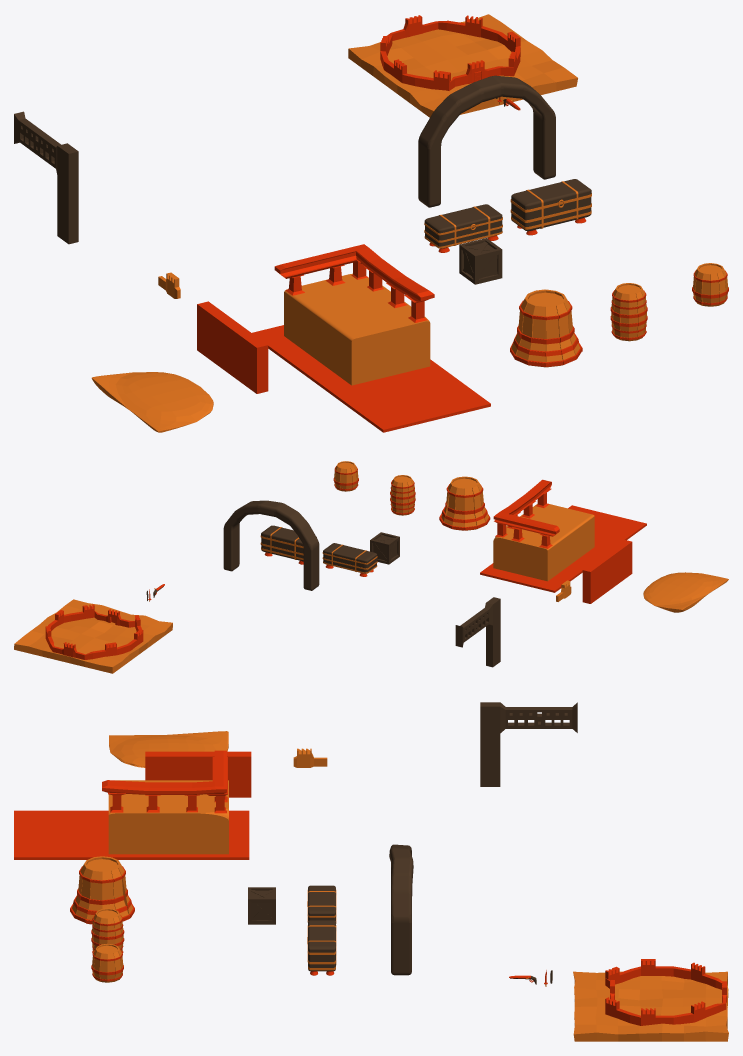
Rendered from fixes.fbx.
The picture shows the model from 3 angles, top to bottom: view 1: azimuth 30°, elevation 25°; view 2: azimuth 150°, elevation 25°; view 3: azimuth 270°, elevation 25°; orthographic projection. The views are drawn at different scales.
Parts seen in each view (by area): view 1: Cube, Plane.001, Plane, gate, large, Cylinder.011, hub walls, wall, pillar, house fence 2, Cylinder.004, crate (+5 smaller); view 2: Plane.001, Cube, gate, Plane, large, Cylinder.011, hub walls, wall, pillar, house fence 2, Cylinder.004, crate (+5 smaller); view 3: Plane.001, Cube, Plane, pillar, hub walls, wall, Cylinder.011, gate, large, house fence 2, Cylinder.004, Cylinder (+4 smaller).
Boxes of the visible parts, x1,y1,x2,y2 form: Cube: (284,273,430,385); Plane.001: (348,14,577,117); Plane: (252,325,490,432); gate: (418,75,555,207); large: (91,372,213,432); Cylinder.011: (510,289,582,367); hub walls: (380,15,520,90); wall: (197,301,268,393); pillar: (14,111,78,244); house fence 2: (274,244,434,301); Cylinder.004: (610,283,647,341); crate: (459,238,502,284); Plane.001: (14,599,172,673); Cube: (493,503,594,581); gate: (223,500,319,590); Plane: (480,505,646,592); large: (643,572,728,612); Cylinder.011: (439,476,490,530); hub walls: (45,604,143,659); wall: (582,539,632,603); pillar: (455,597,500,667); house fence 2: (493,479,559,534); Cylinder.004: (390,475,415,515); crate: (370,532,399,564); Plane.001: (573,971,728,1041); Cube: (108,780,228,854); Plane: (14,810,249,859); pillar: (480,702,577,786); hub walls: (605,959,726,1025); wall: (145,751,251,797); Cylinder.011: (70,856,134,924); gate: (389,844,413,975); large: (109,731,228,767); house fence 2: (102,750,226,794); Cylinder.004: (91,908,124,952); Cylinder: (91,943,123,982).
Size of the model in its own units: 4994 by 882 by 5104.
